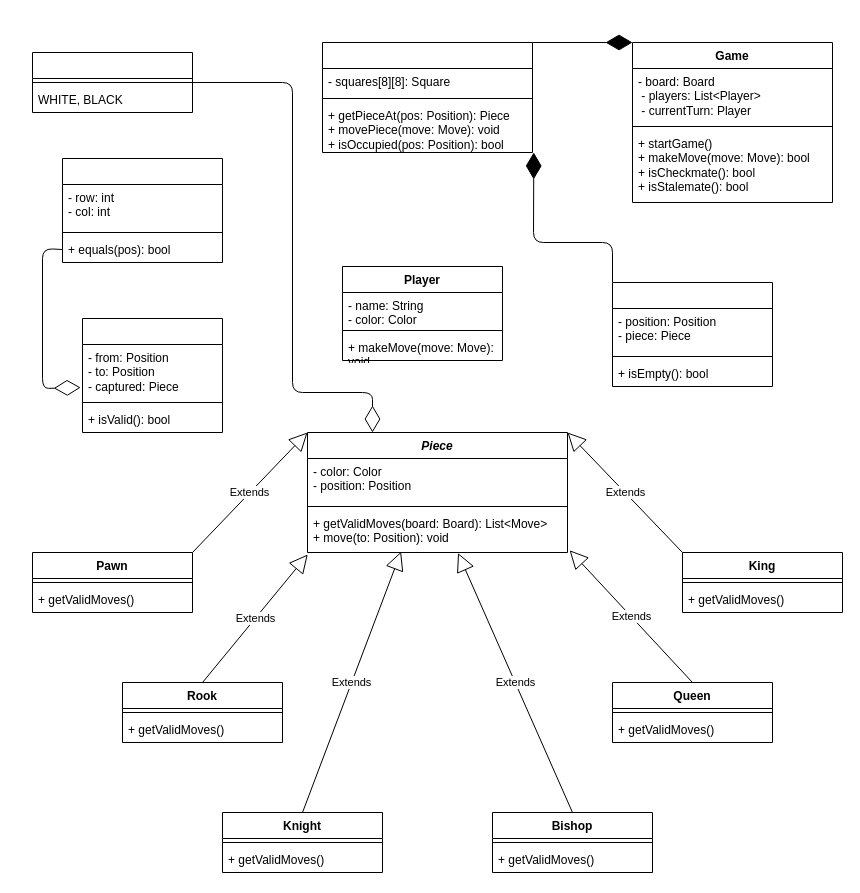
Some shapes in this 860 by 893 pixel diagram are drawn without their labels. Here are the shapes that lost their labels. From the top down, the box of each, then its label:
(32, 52, 192, 112): Color(enum)
(322, 42, 532, 152): Board
(62, 158, 222, 262): Position
(612, 282, 772, 386): Square
(82, 318, 222, 432): Move
